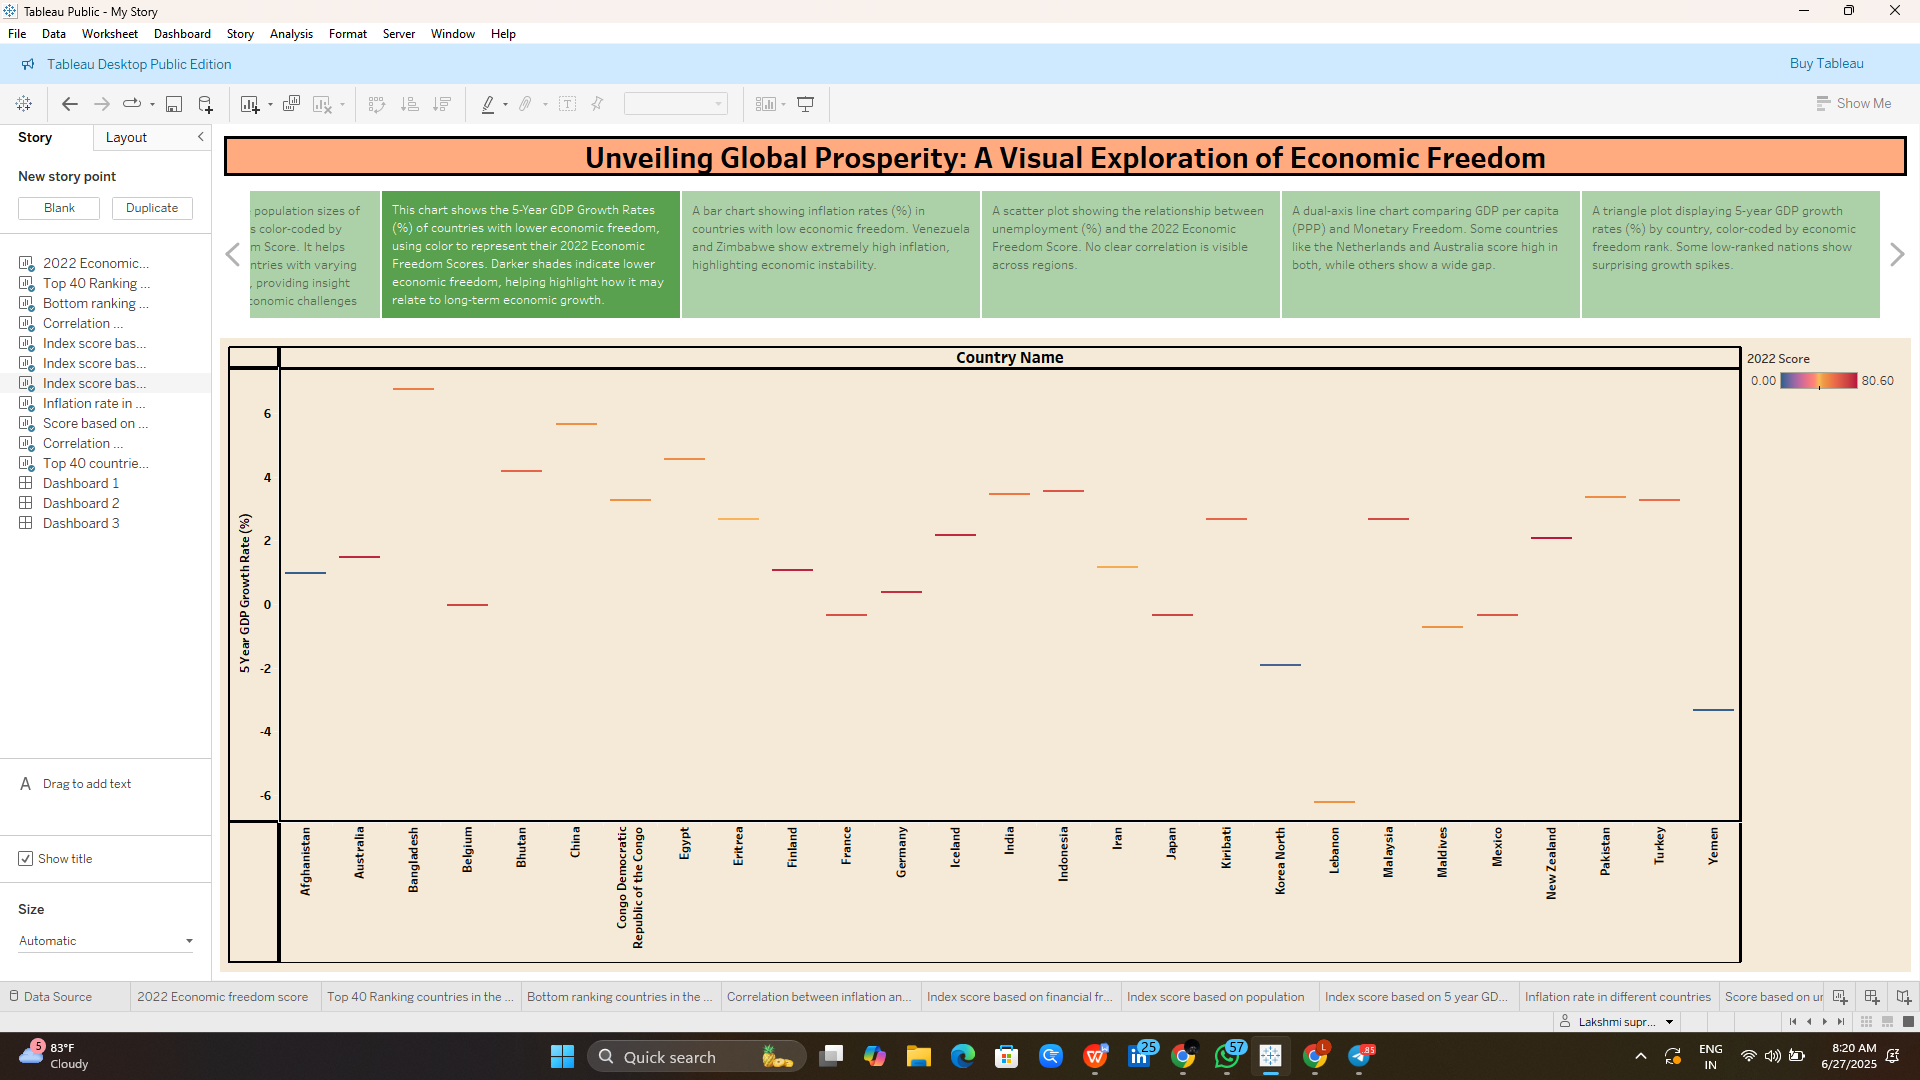

Layout of this report page (visuals, bound fields, positions):
{"tool":"tableau","page":{"name":"Dashboard 2","canvas":[1000,1000],"units":"permille","ordinal":1},"visuals":[{"type":"legend","title":"Correlation between inflation and unemployment","param":"[federated.0w3zbzs02l5cmz1c80fon0o09ncx].[:Measure Names]","box":[901.6,9.3,93.7,78.3]},{"type":"title","box":[10.5,38.6,383.7,60.8]},{"type":"worksheet","title":"Index score based on financial freedom","mark":"Automatic","box":[426.5,45.6,454.6,432.2]},{"type":"legend","title":"Index score based on financial freedom","param":"[federated.0w3zbzs02l5cmz1c80fon0o09ncx].[none:Region:nk]","box":[901.6,87.6,93.7,147.2]},{"type":"worksheet","title":"Correlation between inflation and unemployment","mark":"Line","rows":["Inflation (%)","Unemployment (%)"],"cols":["Country Name"],"box":[9.4,113.3,404.8,368]},{"type":"legend","title":"Index score based on population","param":"[federated.0w3zbzs02l5cmz1c80fon0o09ncx].[sum:2022 Score:qk]","box":[901.6,234.8,93.7,75.9]},{"type":"legend","title":"Index score based on 5 year GDP growth rate(%)","param":"[federated.0w3zbzs02l5cmz1c80fon0o09ncx].[sum:2022 Score:qk]","box":[902.8,316.6,93.7,67.8]},{"type":"worksheet","title":"Index score based on population","mark":"Automatic","rows":["Country Name"],"cols":["Population (Millions)"],"box":[16.4,497.7,374.3,476.6]},{"type":"worksheet","title":"Index score based on 5 year GDP growth rate(%)","mark":"GanttBar","rows":["5 Year GDP Growth Rate (%)"],"cols":["Country Name"],"box":[401.9,501.2,395.4,457.9]},{"type":"dashboard-object","box":[808.4,646,80.8,53.7]},{"type":"dashboard-object","box":[807.9,754.7,80.8,56.1]}]}

Visuals, with their boxes on the dashboard's canvas, which has no fixed pixel size, in thousandths of its width and height (x1, y1, x2, y2). These are canvas units, not pixel positions in the 1920x1080 screenshot, which may show the page scaled, cropped or inside an application window:
"Correlation between inflation and unemployment" legend: rect(902, 9, 995, 88)
title: rect(10, 39, 394, 99)
"Index score based on financial freedom" worksheet: rect(426, 46, 881, 478)
"Index score based on financial freedom" legend: rect(902, 88, 995, 235)
"Correlation between inflation and unemployment" worksheet (Line marks): rect(9, 113, 414, 481)
"Index score based on population" legend: rect(902, 235, 995, 311)
"Index score based on 5 year GDP growth rate(%)" legend: rect(903, 317, 996, 384)
"Index score based on population" worksheet: rect(16, 498, 391, 974)
"Index score based on 5 year GDP growth rate(%)" worksheet (GanttBar marks): rect(402, 501, 797, 959)
dashboard-object: rect(808, 646, 889, 700)
dashboard-object: rect(808, 755, 889, 811)
